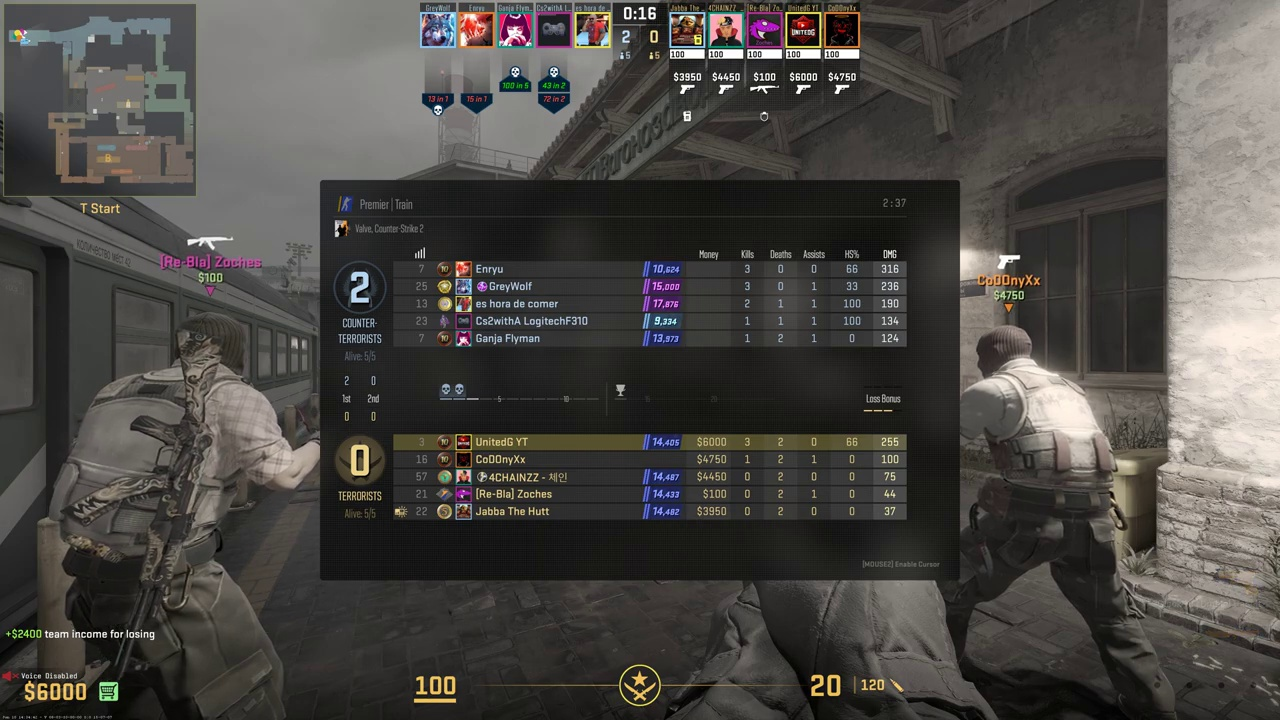Terrorist: (54, 316, 270, 716), (961, 326, 1150, 715)
